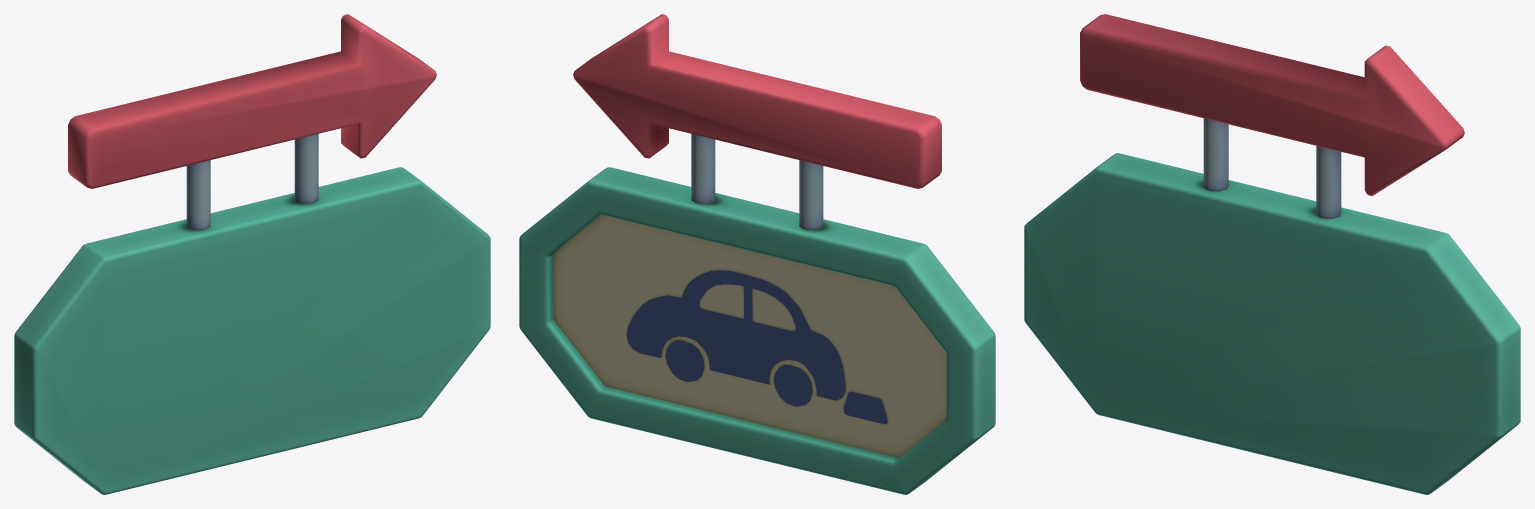
File: Parking_Sign_02.fbx
3 renders of one model, left to right at view 1: azimuth 30°, elevation 25°; view 2: azimuth 150°, elevation 25°; view 3: azimuth 330°, elevation 25°, orthographic. The views are drawn at different scales.
Parts seen in each view (by area): view 1: Parking_Sign_02; view 2: Parking_Sign_02; view 3: Parking_Sign_02.
Part boxes in pixels (box(x1,y1,x2,y2)): Parking_Sign_02: box(14, 14, 490, 494); Parking_Sign_02: box(519, 14, 995, 494); Parking_Sign_02: box(1024, 14, 1520, 494).
Size of the model in its own units: 797 by 673 by 65.99.
